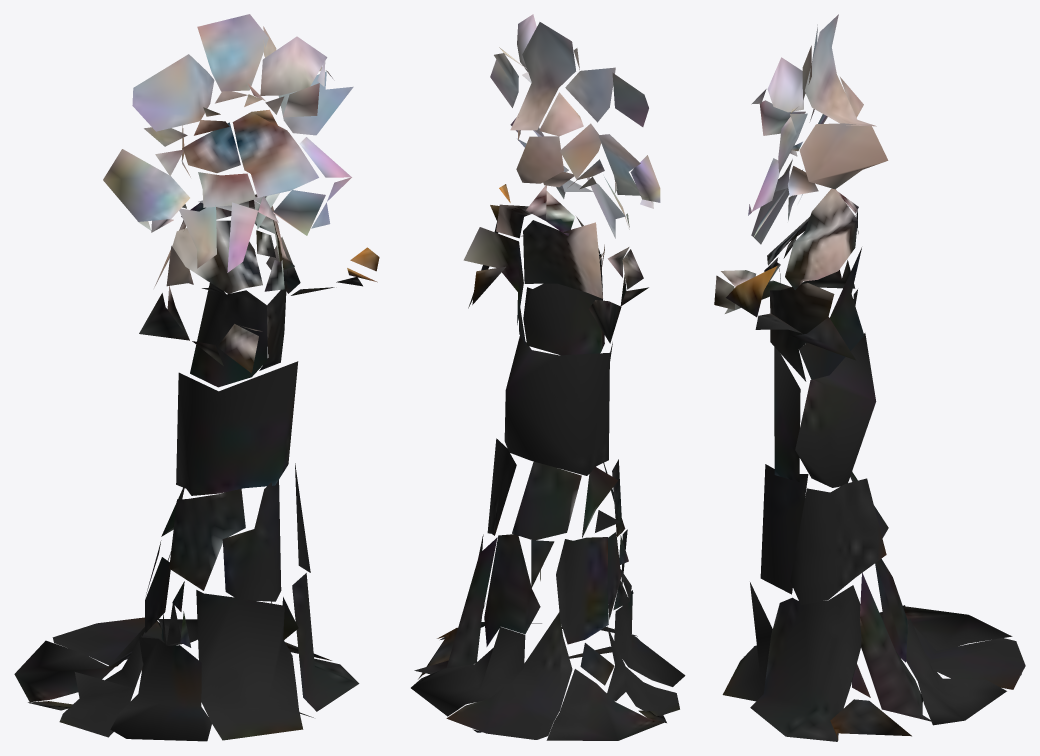
Rendered from cast_gown_far.glb.
The picture shows the model from 3 angles, left to right: view 1: azimuth 30°, elevation 25°; view 2: azimuth 150°, elevation 25°; view 3: azimuth 270°, elevation 25°; orthographic projection. The views are drawn at different scales.
Parts seen in each view (by area): view 1: tripo_node_620514dc-a435-4403-84fe-d3314a613aa5; view 2: tripo_node_620514dc-a435-4403-84fe-d3314a613aa5; view 3: tripo_node_620514dc-a435-4403-84fe-d3314a613aa5.
Boxes of the visible parts, left/top/right/bottom form: tripo_node_620514dc-a435-4403-84fe-d3314a613aa5: left=14, top=14, right=379, bottom=741; tripo_node_620514dc-a435-4403-84fe-d3314a613aa5: left=411, top=14, right=685, bottom=740; tripo_node_620514dc-a435-4403-84fe-d3314a613aa5: left=714, top=14, right=1025, bottom=741.
Size of the model in its own units: 0.4183 by 0.9785 by 0.4113.
1 material, 1 textured.
